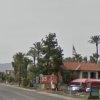Palm tree: (22, 33, 64, 69)
